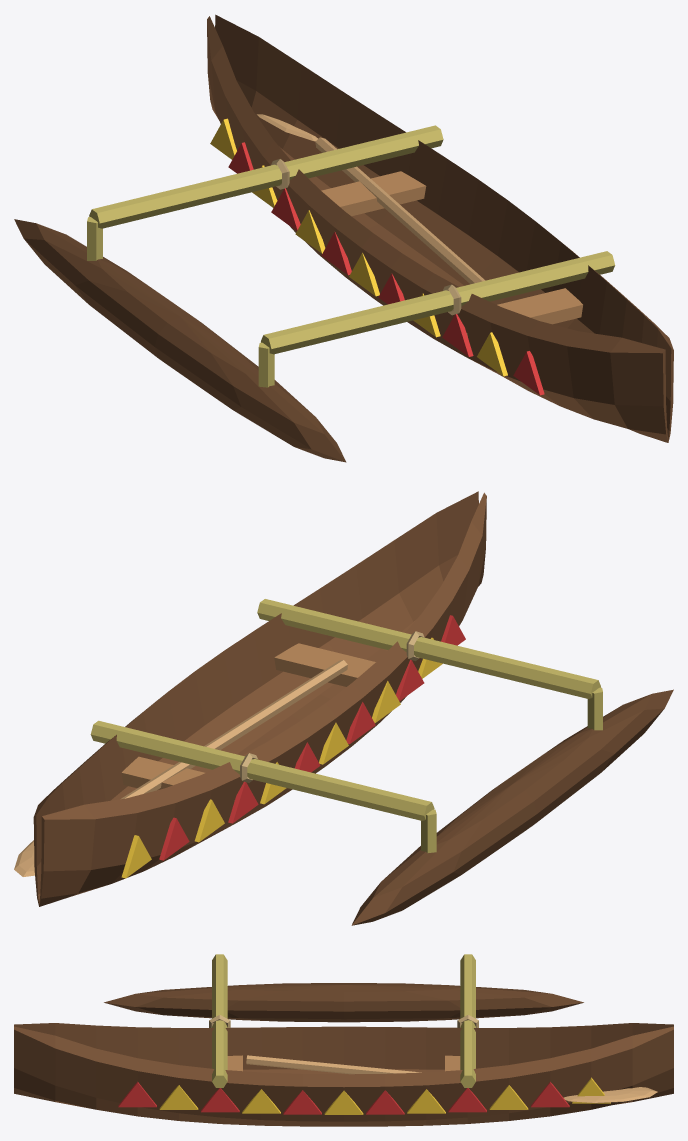
Rendered from Canoe.fbx.
3 views of the same model, one above another, from view 1: azimuth 30°, elevation 25°; view 2: azimuth 150°, elevation 25°; view 3: azimuth 270°, elevation 25° (orthographic). The views are drawn at different scales.
Visible parts, largest first — view 1: Canoe_WoodDark, Canoe_Bark, Canoe_Bamboo, Canoe_Plank, Canoe_Red, Canoe_Yellow, Canoe_WoodLight; view 2: Canoe_WoodDark, Canoe_Bark, Canoe_Bamboo, Canoe_Plank, Canoe_Red, Canoe_WoodLight, Canoe_Yellow; view 3: Canoe_WoodDark, Canoe_Bark, Canoe_Bamboo, Canoe_Red, Canoe_Yellow, Canoe_WoodLight, Canoe_Plank, Canoe_Rope.
Boxes of the visible parts, box(x1,y1,x2,y2) form: Canoe_WoodDark: box(207, 14, 673, 442); Canoe_Bark: box(14, 219, 346, 462); Canoe_Bamboo: box(87, 125, 615, 387); Canoe_Plank: box(321, 171, 582, 336); Canoe_Red: box(228, 142, 544, 395); Canoe_Yellow: box(210, 118, 507, 376); Canoe_WoodLight: box(257, 114, 485, 284); Canoe_WoodDark: box(33, 491, 486, 906); Canoe_Bark: box(351, 689, 673, 925); Canoe_Bamboo: box(90, 599, 602, 852); Canoe_Plank: box(121, 643, 375, 801); Canoe_Red: box(159, 615, 465, 860); Canoe_WoodLight: box(14, 660, 347, 876); Canoe_Yellow: box(121, 637, 442, 878); Canoe_WoodDark: box(14, 1023, 673, 1126); Canoe_Bark: box(104, 983, 583, 1022); Canoe_Bamboo: box(212, 954, 475, 1087); Canoe_Red: box(118, 1081, 569, 1114); Canoe_Yellow: box(159, 1077, 610, 1114); Canoe_WoodLight: box(246, 1055, 657, 1103); Canoe_Plank: box(227, 1055, 460, 1071); Canoe_Rope: box(209, 1015, 478, 1027).
Size of the model in its own units: 7.95 by 2.66 by 17.
